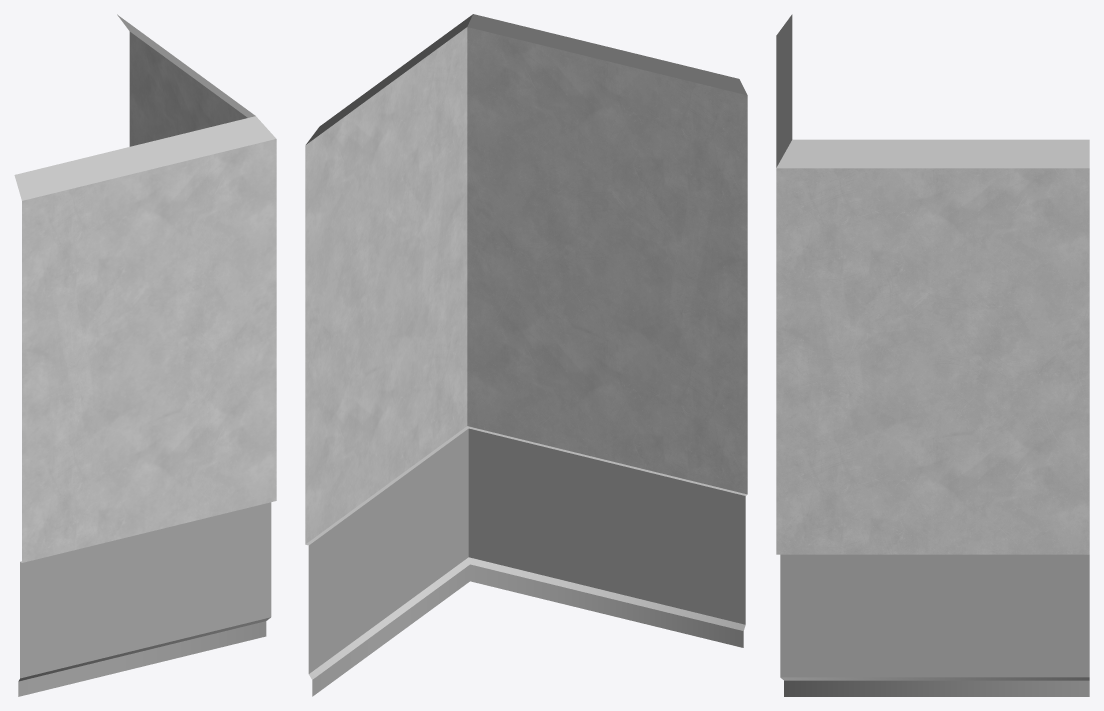
Rendered from WallIntCornerinside2A.fbx.
3 renders of one model, left to right at view 1: azimuth 30°, elevation 25°; view 2: azimuth 150°, elevation 25°; view 3: azimuth 270°, elevation 25°, orthographic. The views are drawn at different scales.
Parts seen in each view (by area): view 1: WallIntCornerinside2A; view 2: WallIntCornerinside2A; view 3: WallIntCornerinside2A.
Part boxes in pixels (x1,y1,x2,y2): WallIntCornerinside2A: (14,14,276,696); WallIntCornerinside2A: (305,14,747,696); WallIntCornerinside2A: (776,14,1089,696).
Bounding box in the file's own units: 195 × 380 × 195.
